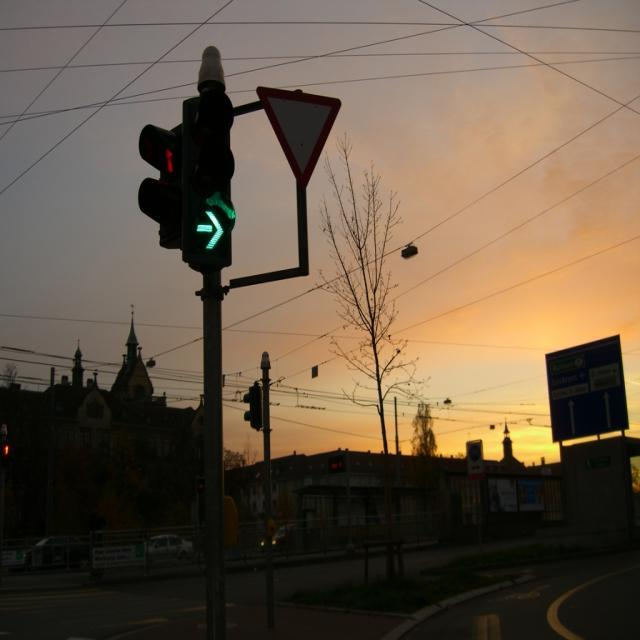traffic light: (188, 87, 232, 262), (135, 118, 187, 237)
